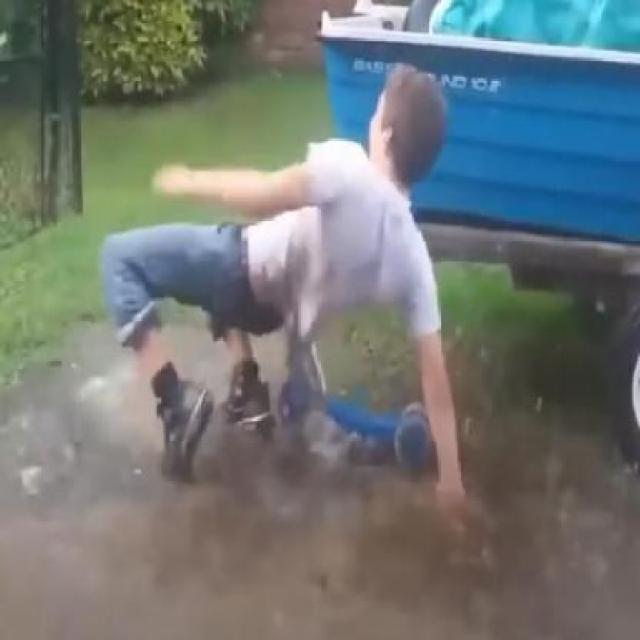fall: (100, 65, 472, 497)
